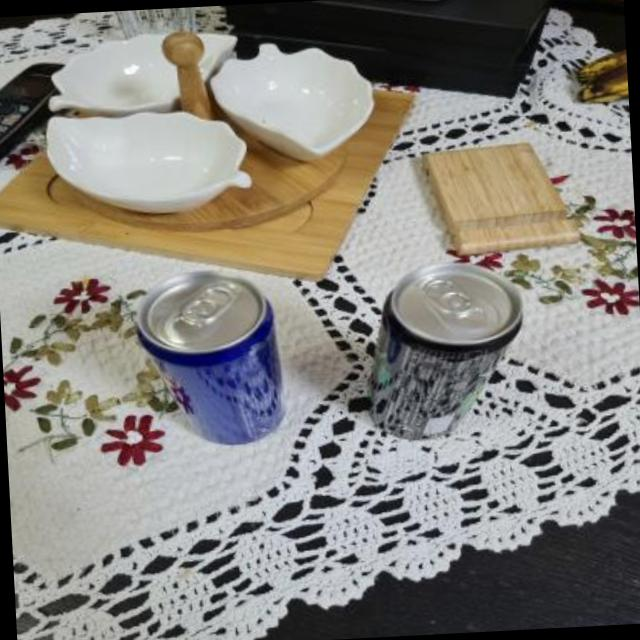metal: (370, 264, 520, 437), (140, 269, 281, 442)
